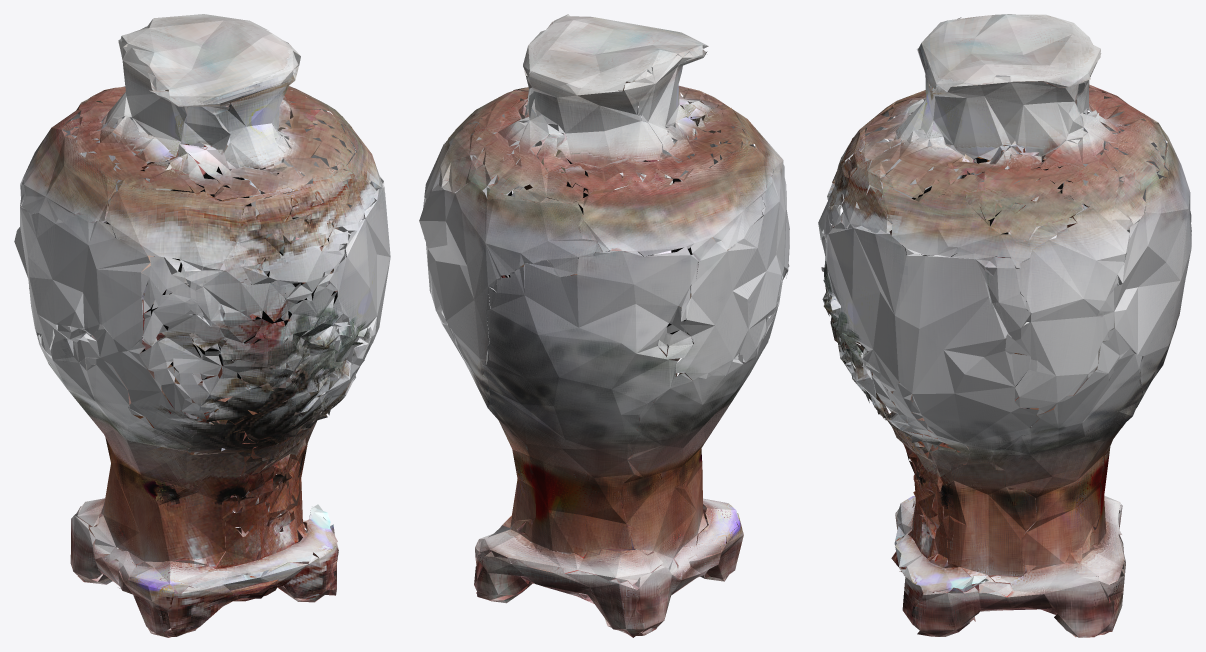
The model's file is gross_vase.glb.
3 renders of one model, left to right at view 1: azimuth 30°, elevation 25°; view 2: azimuth 150°, elevation 25°; view 3: azimuth 270°, elevation 25°, orthographic. The views are drawn at different scales.
Visible parts, largest first — view 1: gross_vase-rigid; view 2: gross_vase-rigid; view 3: gross_vase-rigid.
Boxes of the visible parts, x1,y1,x2,y2 form: gross_vase-rigid: (14, 14, 390, 637); gross_vase-rigid: (419, 14, 789, 637); gross_vase-rigid: (818, 14, 1191, 637).
Size of the model in its own units: 0.8308 by 1.37 by 0.8271.
Materials: 1 (1 with a texture image).
